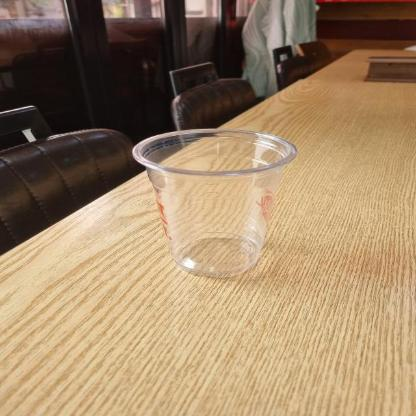Plastic Cup: (129, 124, 299, 284)
